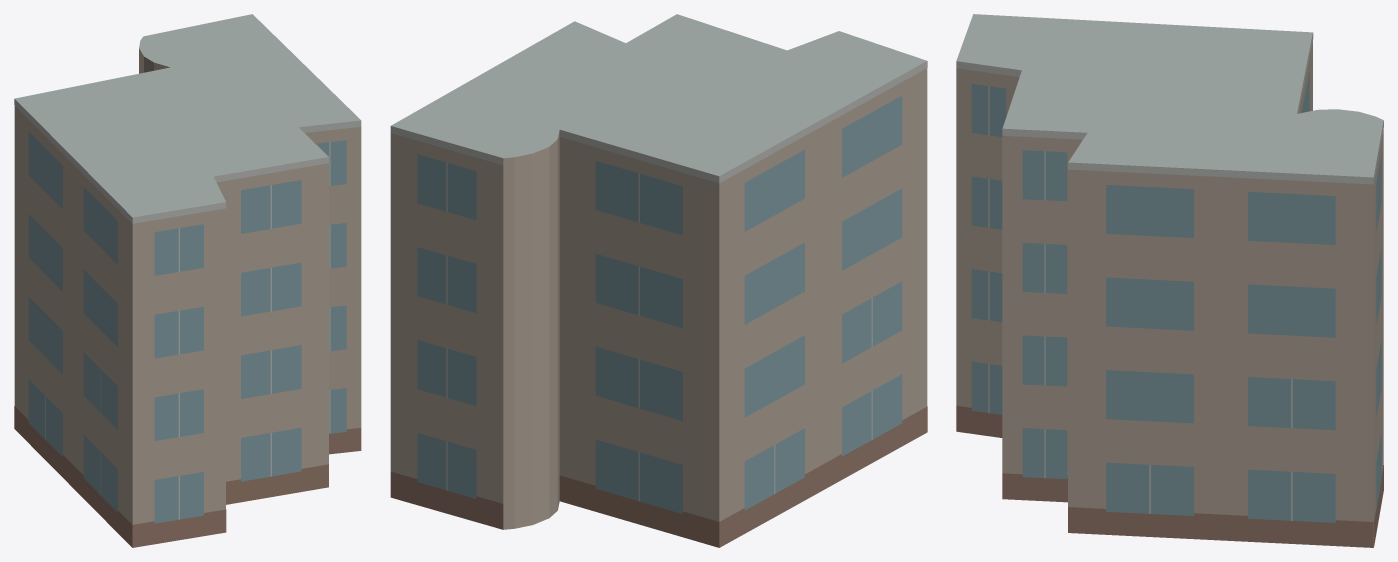
File: survey-upis-33024081.glb
3 renders of one model, left to right at view 1: azimuth 30°, elevation 25°; view 2: azimuth 150°, elevation 25°; view 3: azimuth 270°, elevation 25°, orthographic. The views are drawn at different scales.
Parts seen in each view (by area): view 1: survey-upis-33024081.tmp; view 2: survey-upis-33024081.tmp; view 3: survey-upis-33024081.tmp.
Boxes of the visible parts, x1,y1,x2,y2 form: survey-upis-33024081.tmp: (14,14,361,547); survey-upis-33024081.tmp: (390,14,927,547); survey-upis-33024081.tmp: (956,14,1383,547).
Size of the model in its own units: 12.12 by 12.8 by 13.4.
